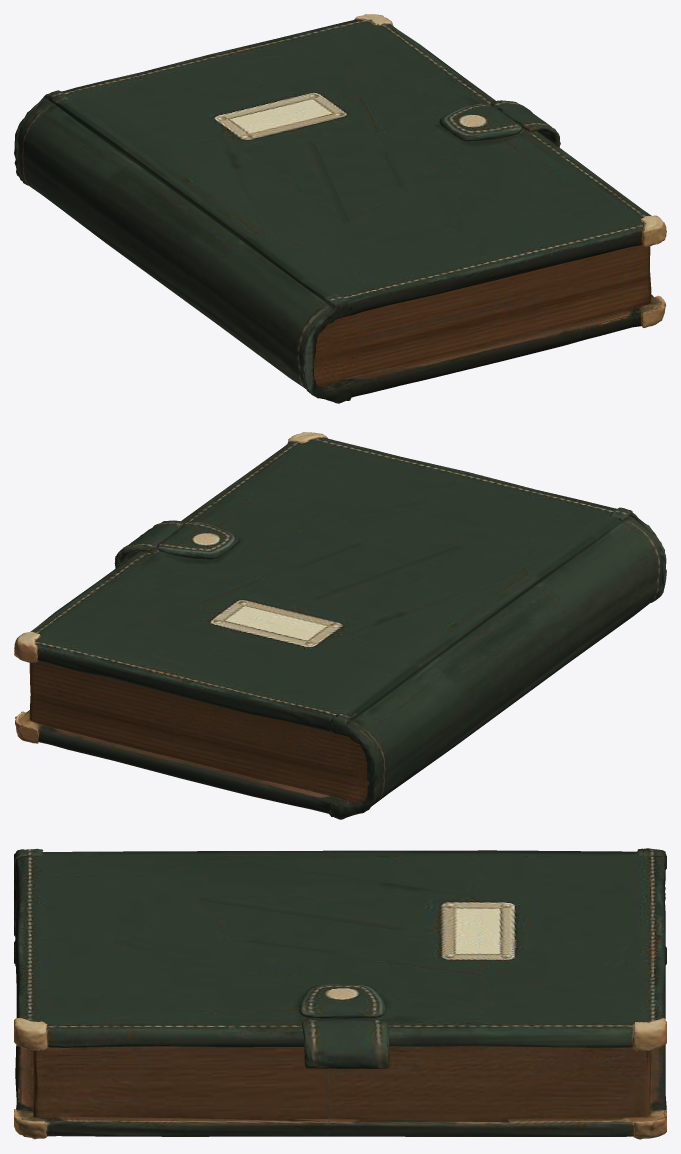
Rendered from hybrid-archive-planner-closed.glb.
The picture shows the model from 3 angles, top to bottom: view 1: azimuth 30°, elevation 25°; view 2: azimuth 150°, elevation 25°; view 3: azimuth 270°, elevation 25°; orthographic projection. The views are drawn at different scales.
Visible parts, largest first — view 1: Mesh_0; view 2: Mesh_0; view 3: Mesh_0.
Part boxes in pixels (box(x1,y1,x2,y2)): Mesh_0: box(14, 14, 666, 403); Mesh_0: box(14, 432, 666, 819); Mesh_0: box(14, 848, 666, 1139).
Bounding box in the file's own units: 1.04 × 0.28 × 1.35.
Materials: 1 (1 with a texture image).
